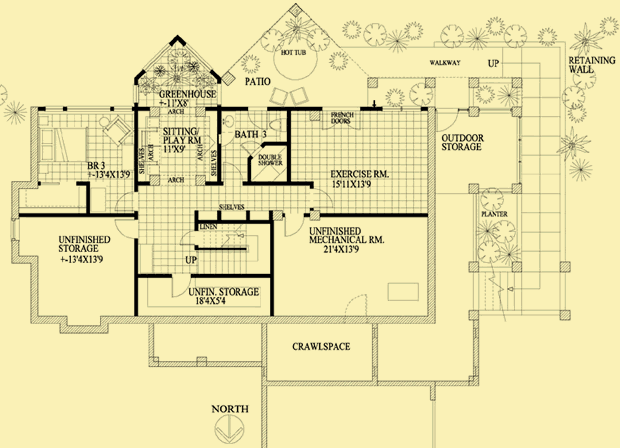bed: (38, 126, 92, 164)
door: (434, 105, 461, 135), (113, 218, 142, 241), (169, 272, 192, 299), (283, 214, 305, 238)
small_sofa: (103, 115, 133, 147)
stairs: (196, 222, 271, 277), (466, 268, 533, 319)
window: (41, 104, 136, 114), (8, 216, 22, 242)
